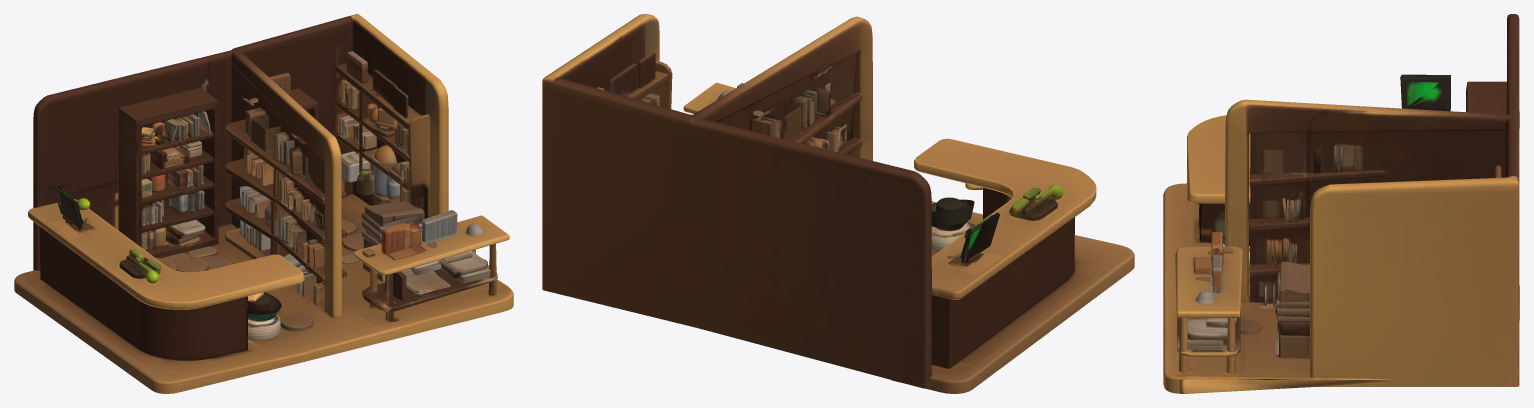
File: toonstudio_stylized_library.glb
3 renders of one model, left to right at view 1: azimuth 30°, elevation 25°; view 2: azimuth 150°, elevation 25°; view 3: azimuth 270°, elevation 25°, orthographic. The views are drawn at different scales.
Visible parts, largest first — view 1: tripo_575512ef_fd3a_4d74_b6f4_ca1263428d91; view 2: tripo_575512ef_fd3a_4d74_b6f4_ca1263428d91; view 3: tripo_575512ef_fd3a_4d74_b6f4_ca1263428d91.
Part boxes in pixels (left/top/right/bottom): tripo_575512ef_fd3a_4d74_b6f4_ca1263428d91: left=14, top=14, right=513, bottom=393; tripo_575512ef_fd3a_4d74_b6f4_ca1263428d91: left=542, top=14, right=1134, bottom=393; tripo_575512ef_fd3a_4d74_b6f4_ca1263428d91: left=1163, top=14, right=1519, bottom=393.
Size of the model in its own units: 2.2 by 1.09 by 1.65.
1 material, 1 textured.
